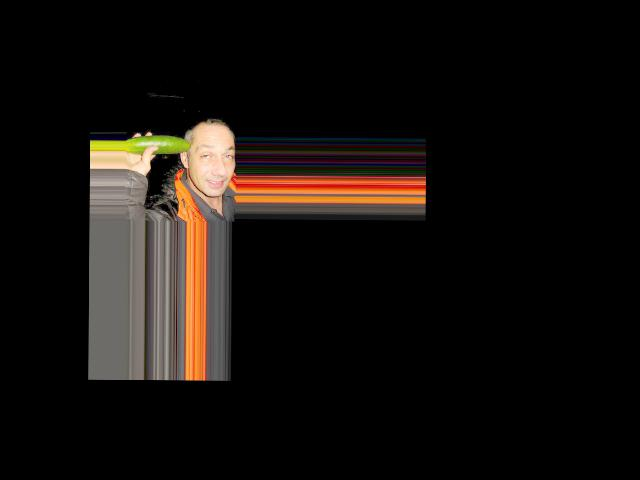cucumber: (125, 135, 191, 154)
